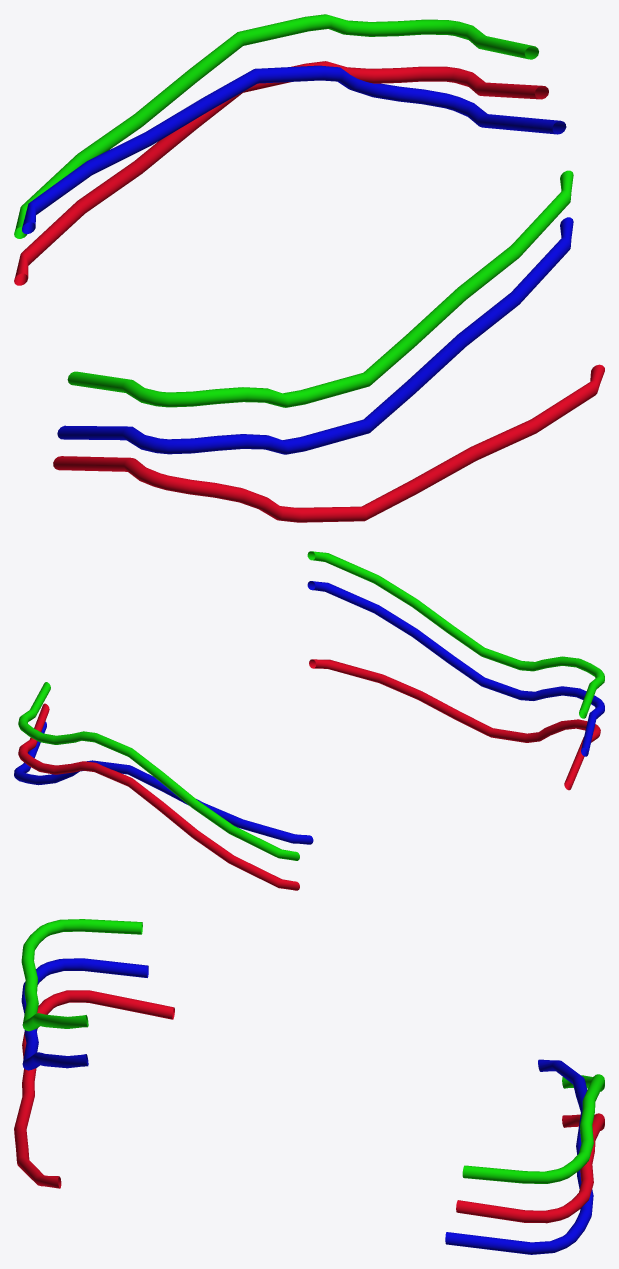
Rendered from wires.fbx.
The picture shows the model from 3 angles, top to bottom: view 1: azimuth 30°, elevation 25°; view 2: azimuth 150°, elevation 25°; view 3: azimuth 270°, elevation 25°; orthographic projection. The views are drawn at different scales.
Parts seen in each view (by area): view 1: Circle.011_Circle.021; view 2: Circle.011_Circle.021; view 3: Circle.011_Circle.021.
Boxes of the visible parts, x1,y1,x2,y2 form: Circle.011_Circle.021: [14, 14, 604, 522]; Circle.011_Circle.021: [14, 551, 604, 890]; Circle.011_Circle.021: [14, 919, 604, 1254].
Size of the model in its own units: 39.21 by 14.3 by 34.96.
